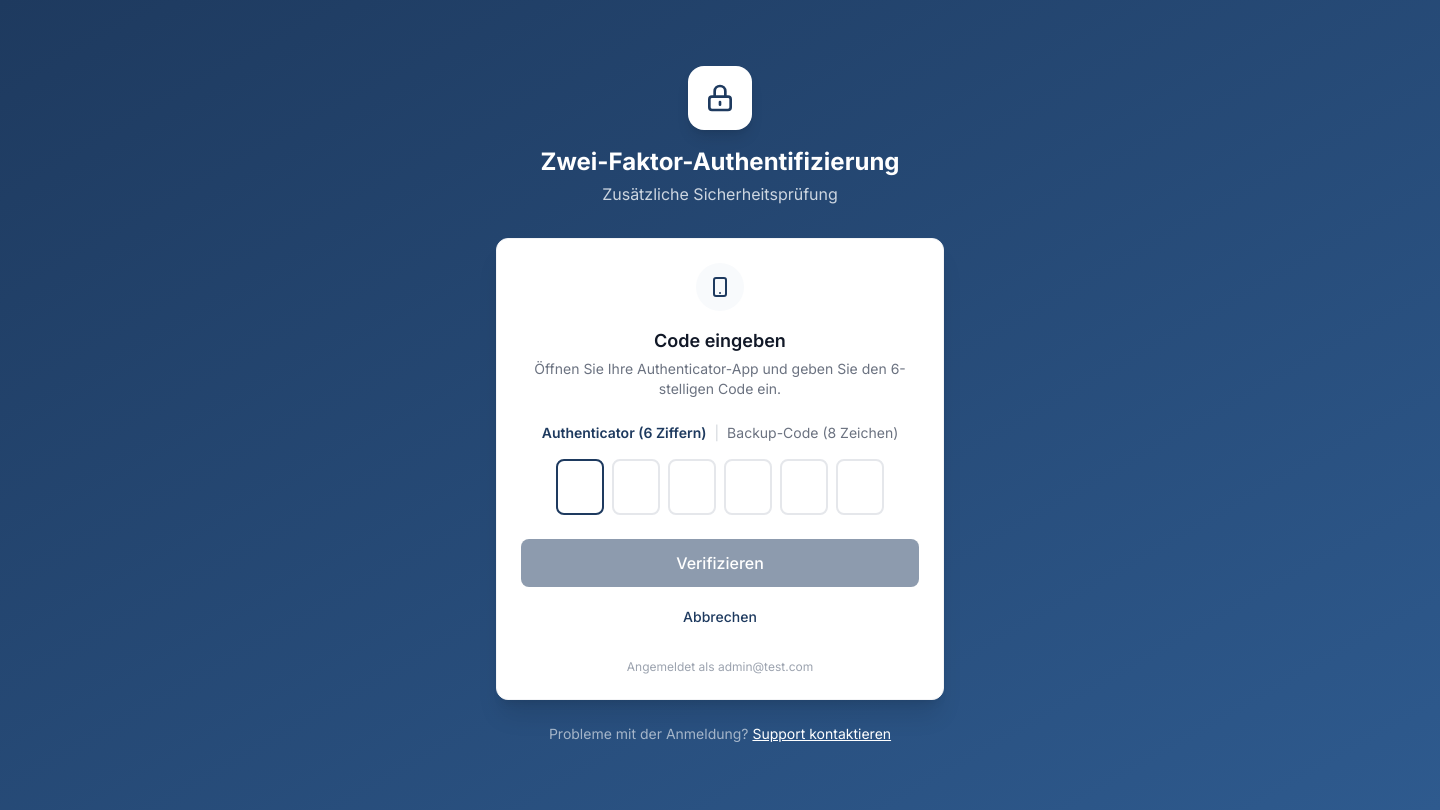
Test: TwoFactorVerify › shows error on verification failure
The width and height of the screenshot is (1440, 810).
Type "123456" into the 1st field.
click(580, 487); type("123456")  # box [556,459,604,515]
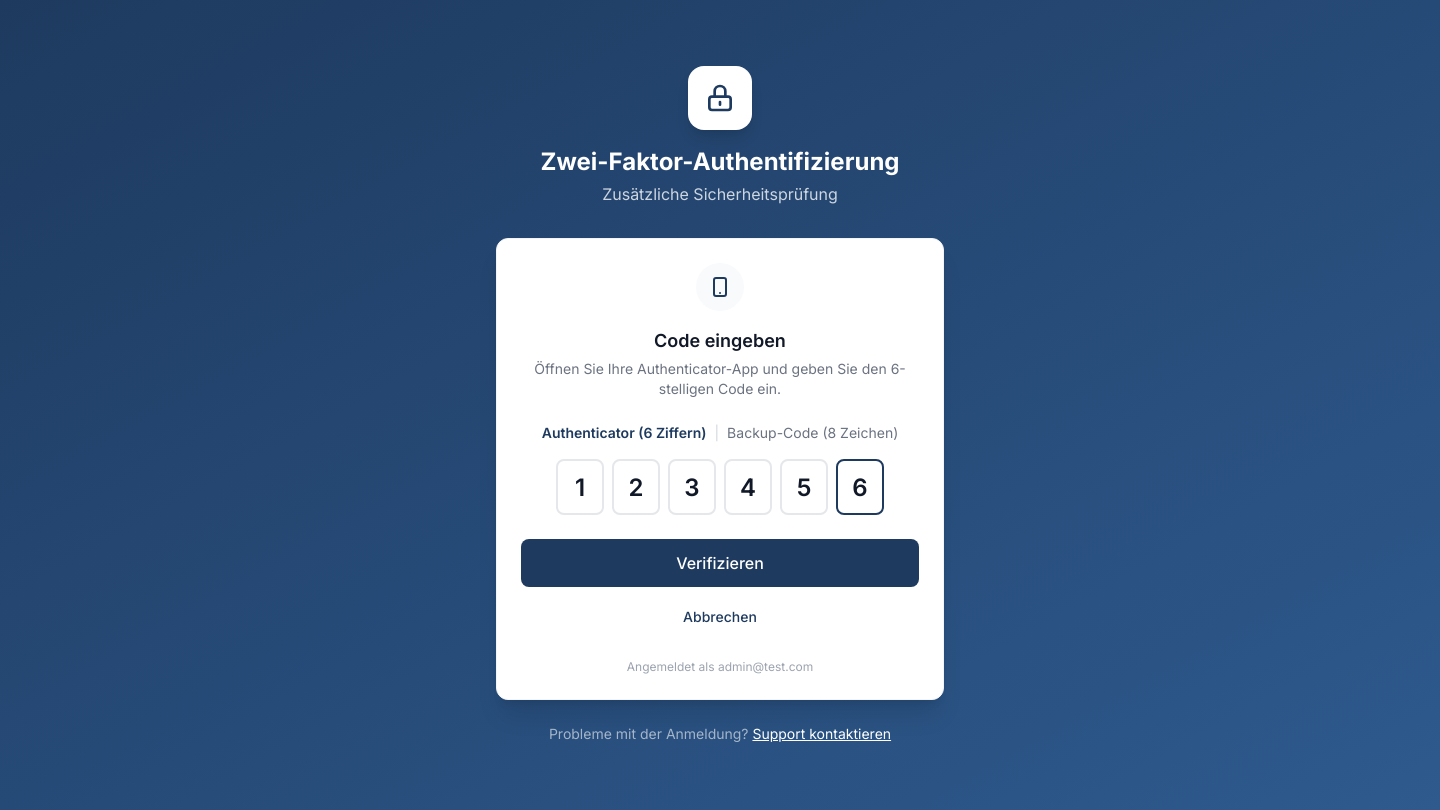
Click the button "Verifizieren".
click(720, 563)  # box [521,539,919,587]
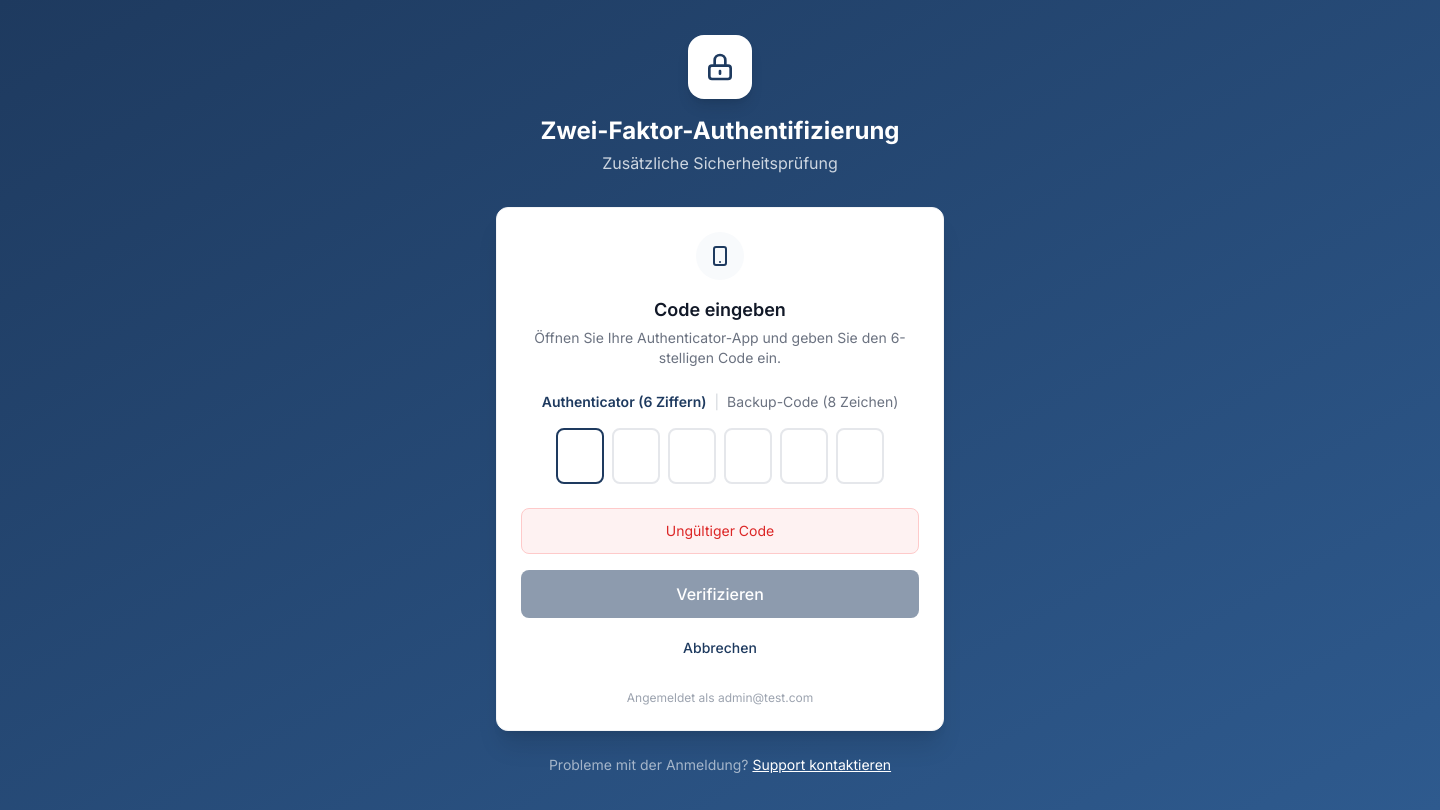
Check: the text "Ungültiger Code" is shown, box [666,522,774,539]
